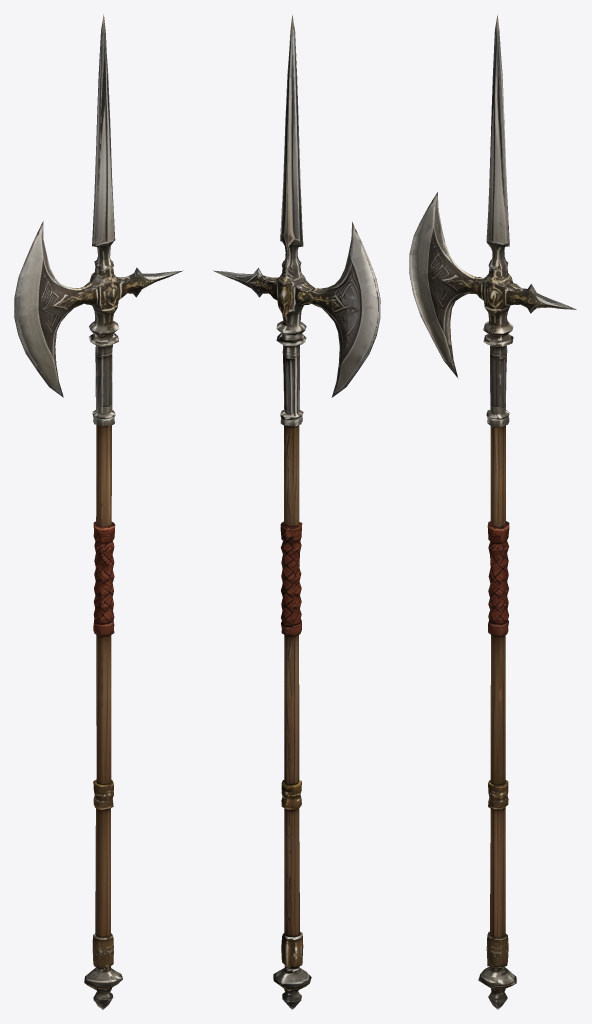
The model's file is classic_halberd.glb.
3 renders of one model, left to right at view 1: azimuth 30°, elevation 25°; view 2: azimuth 150°, elevation 25°; view 3: azimuth 330°, elevation 25°, orthographic.
Visible parts, largest first — view 1: Classic Halberd; view 2: Classic Halberd; view 3: Classic Halberd.
Part boxes in pixels (bbox=[...]): Classic Halberd: bbox=[14, 14, 183, 1009]; Classic Halberd: bbox=[213, 14, 380, 1009]; Classic Halberd: bbox=[409, 14, 576, 1009].
Size of the model in its own units: 0.358 by 2.02 by 0.0745.
1 material, 1 textured.
